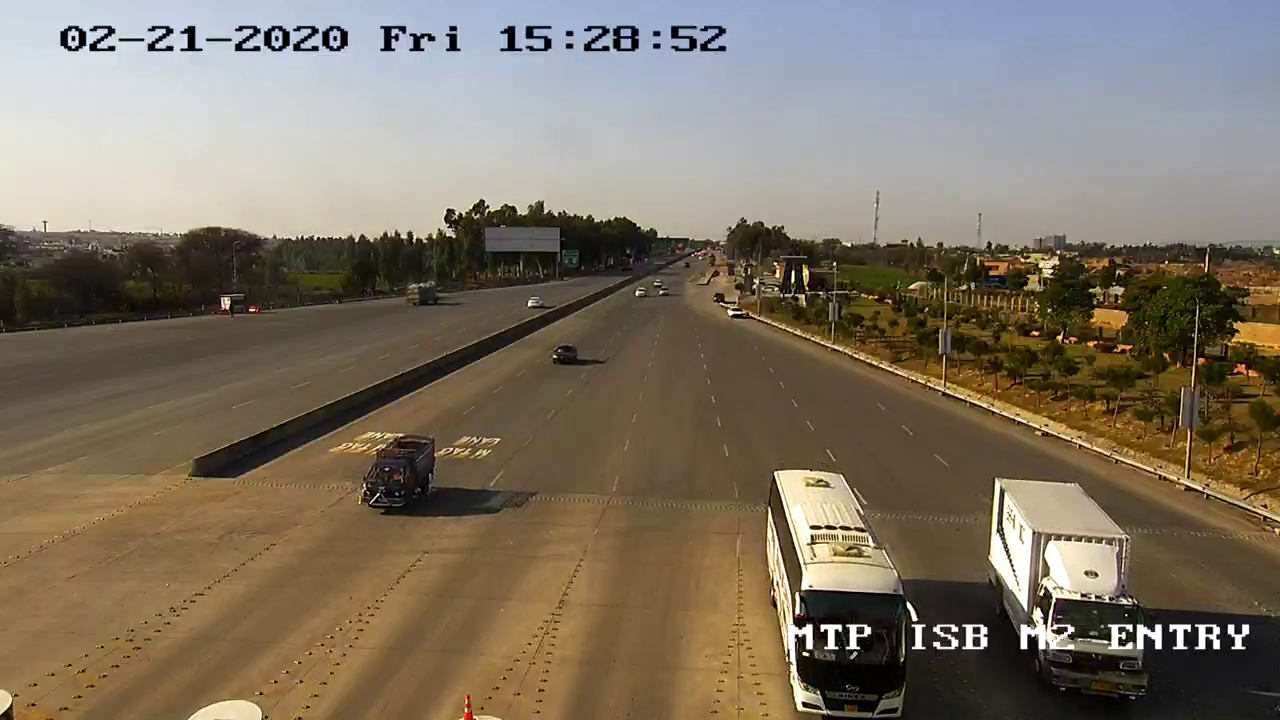f3: (349, 426, 442, 521)
f4: (761, 453, 929, 720)
